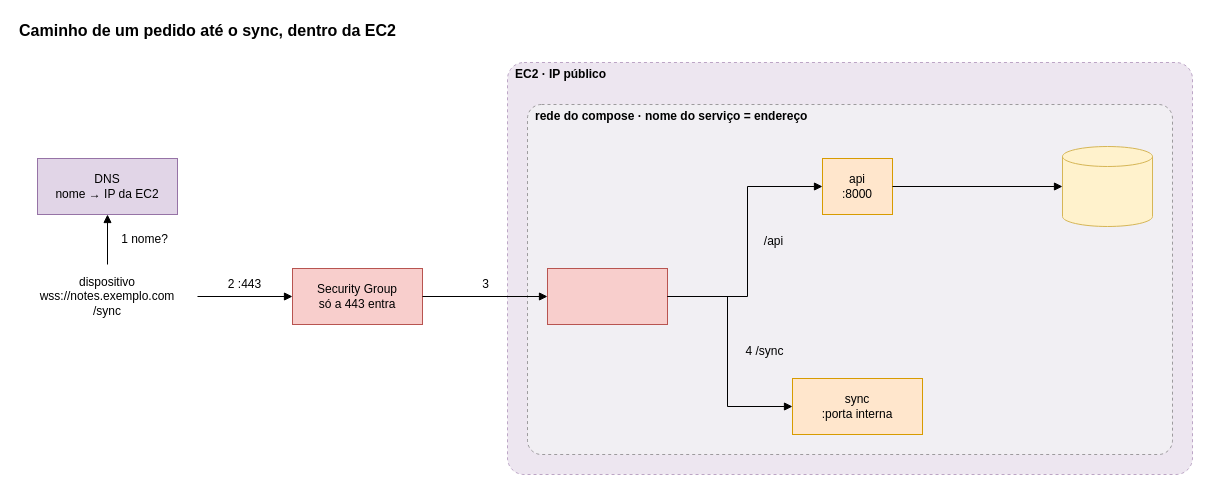
This 1210x492 diagram has some shape labels left out. Each missing label, with the centre of its shape:
"caddy 443 publicada" goes at point (607, 296).
"Postgres :5432" goes at point (1107, 186).
